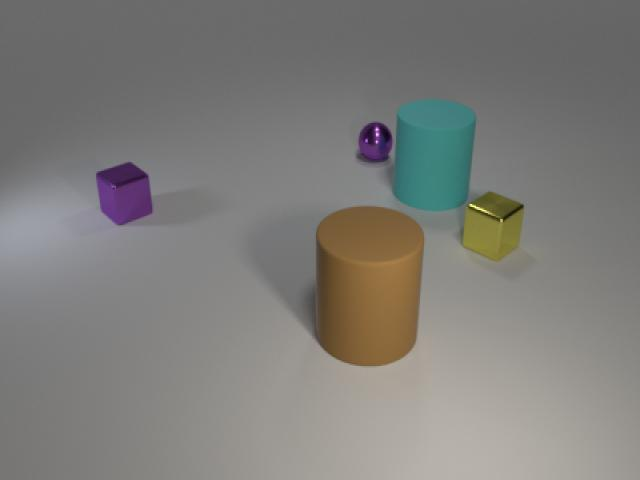cylinder: (308, 201, 428, 371), (392, 94, 479, 215)
round ball: (356, 118, 394, 166)
